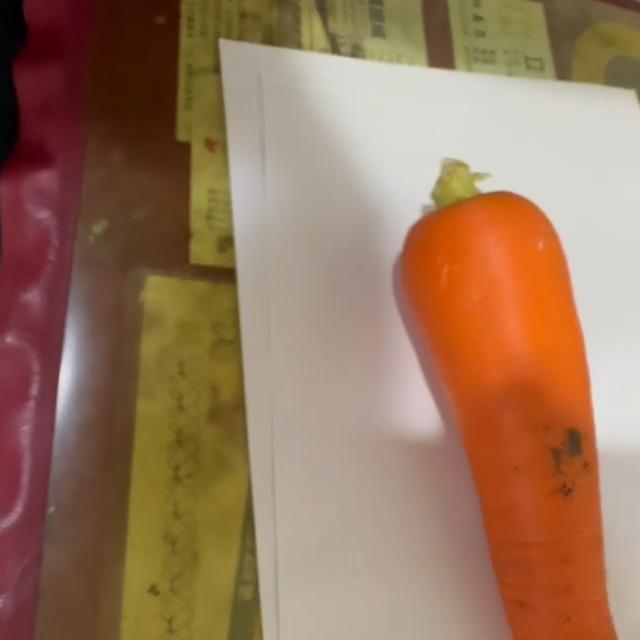carrot: (399, 156, 633, 640)
